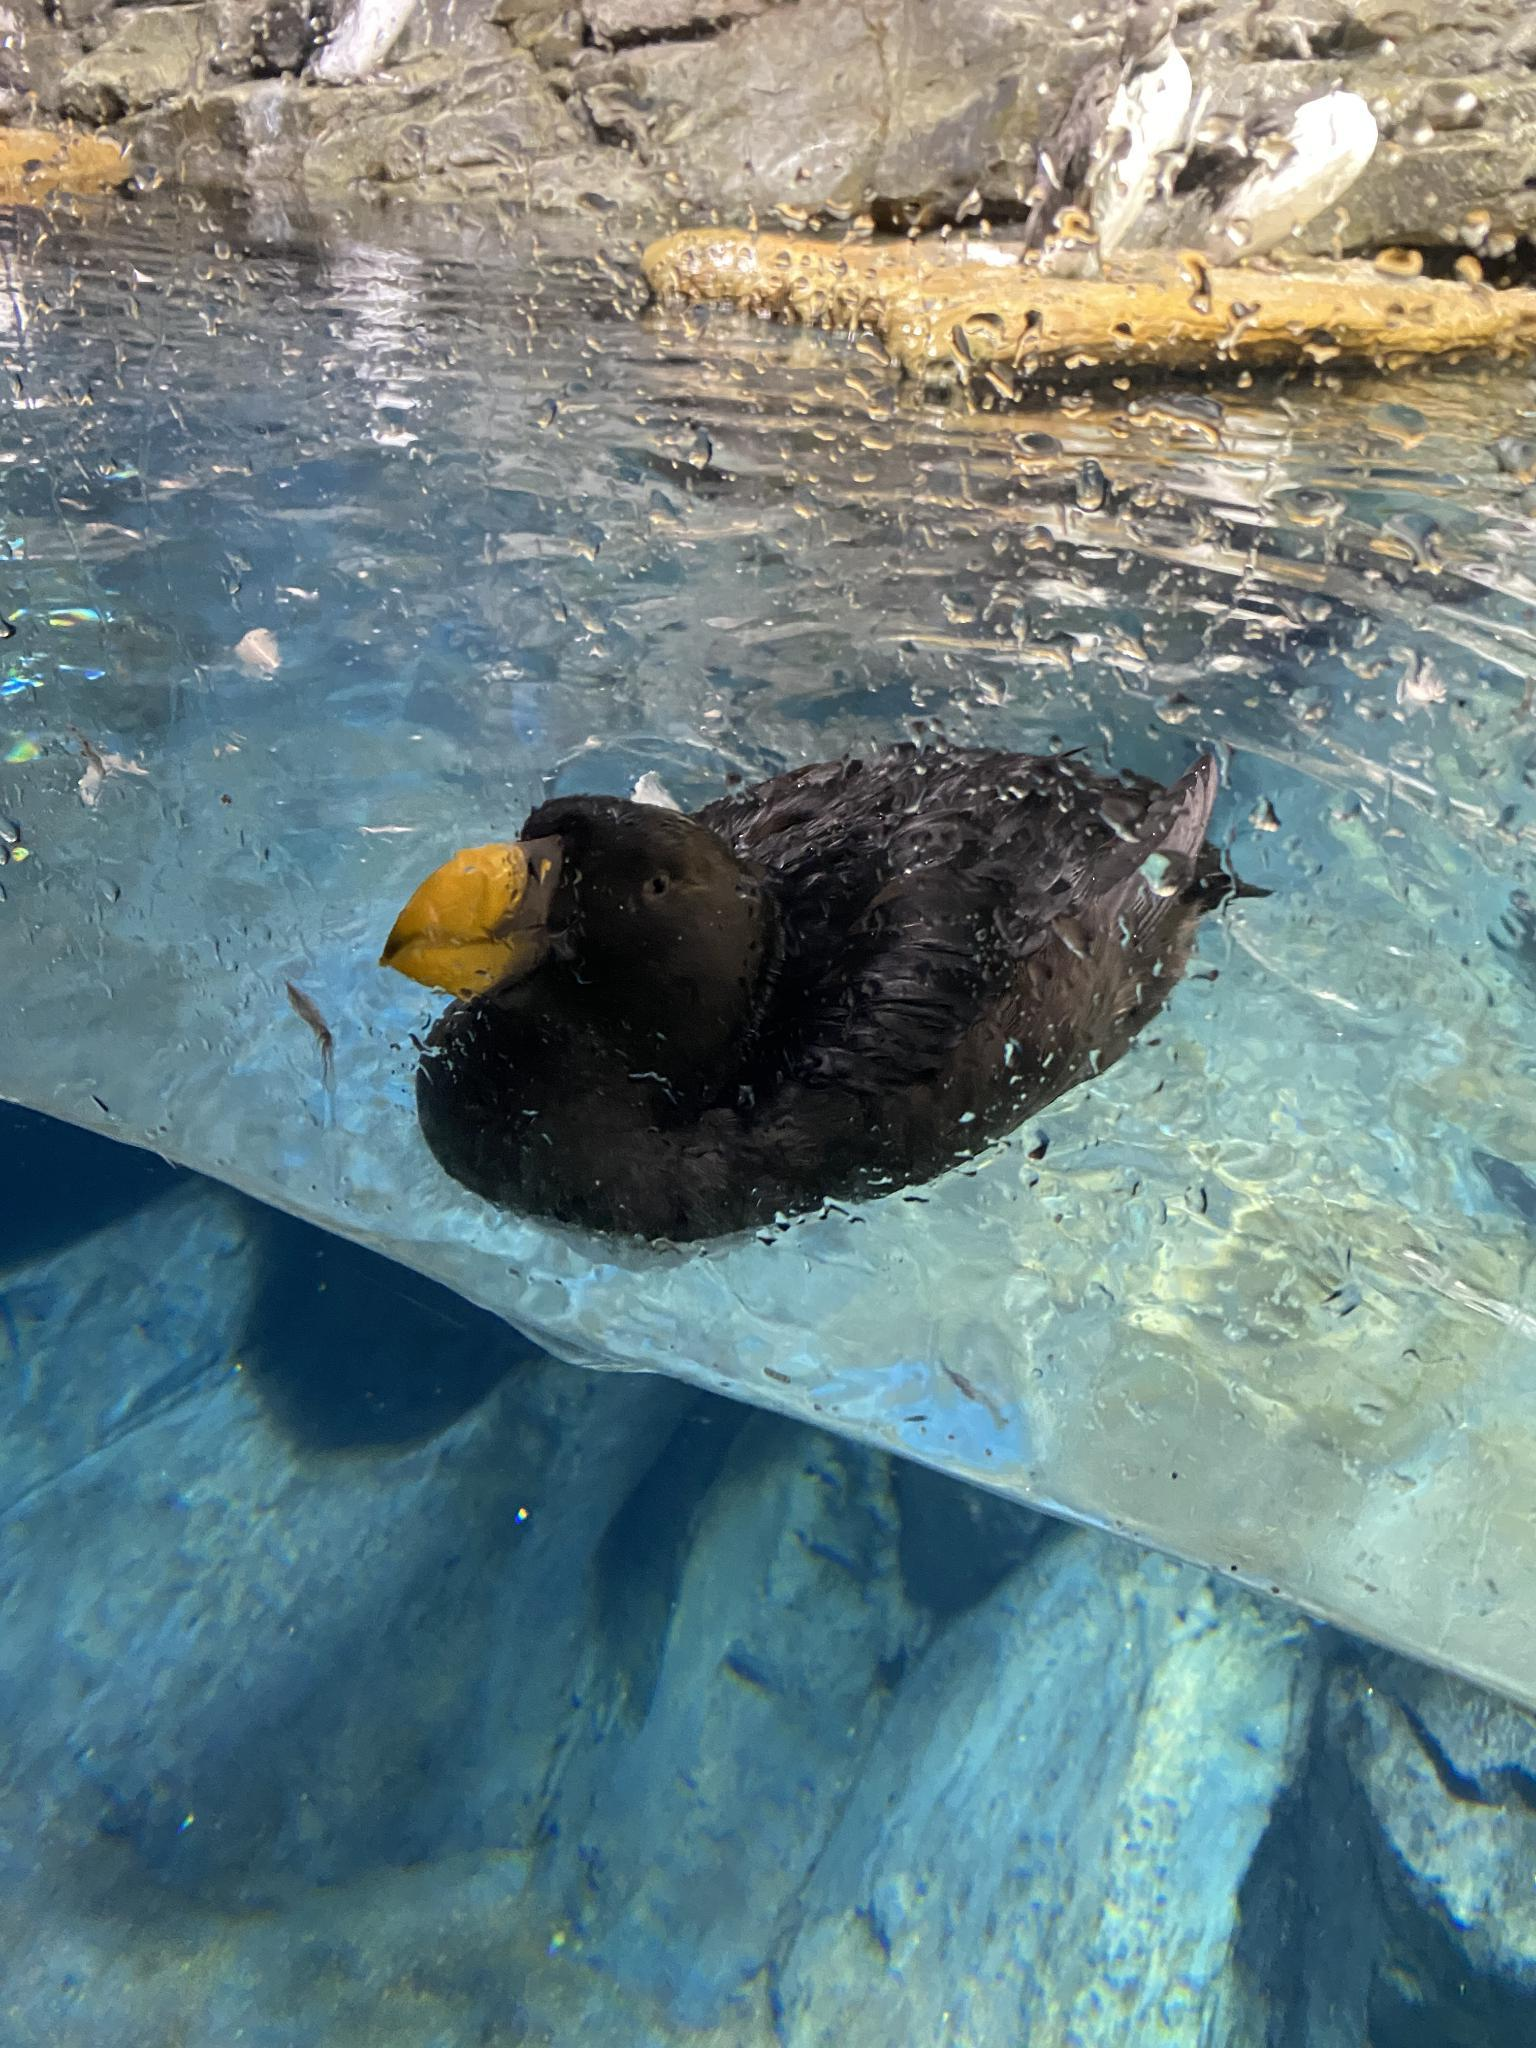puffin: (382, 747, 1229, 1263), (1020, 0, 1186, 274), (1199, 94, 1375, 268)
